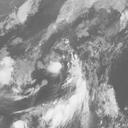cyclone: (43, 58, 63, 77)
